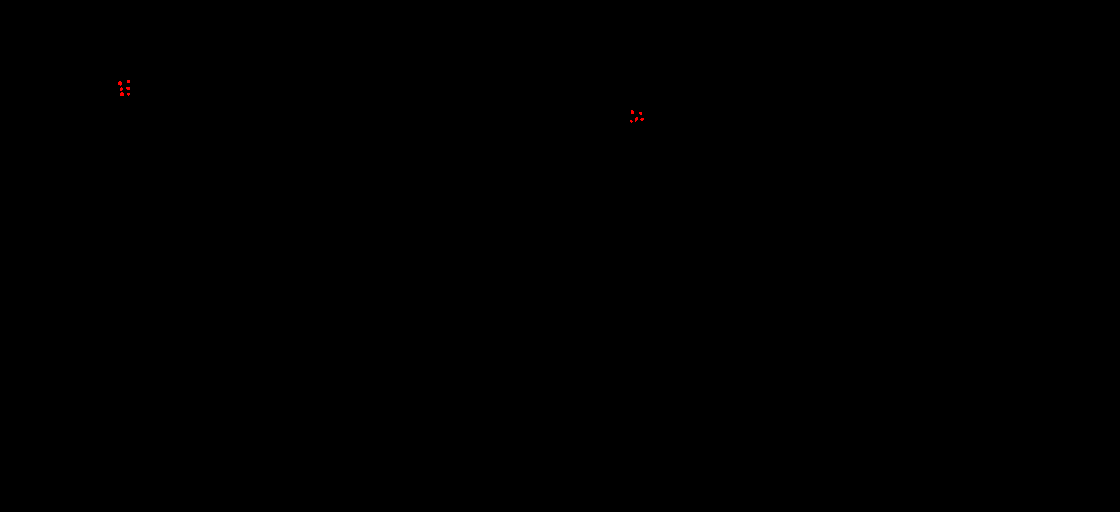Target: (118, 81, 122, 86), (120, 92, 124, 96), (635, 117, 638, 122), (120, 87, 123, 91), (126, 87, 130, 90), (631, 110, 634, 114), (640, 118, 644, 121), (127, 80, 130, 83), (127, 93, 130, 96), (639, 112, 642, 115), (630, 120, 633, 123)
